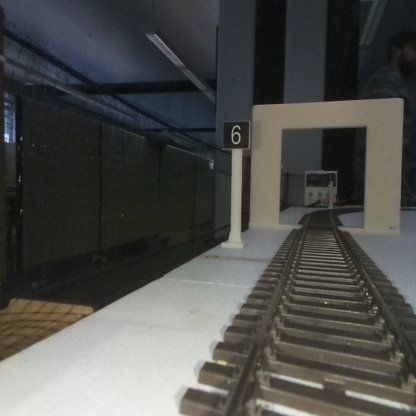black-info-6: (222, 119, 248, 246)
